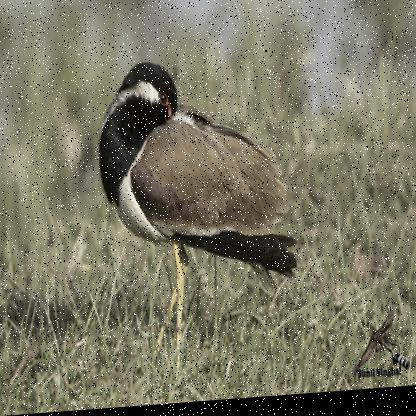Burung: (98, 56, 296, 332)
